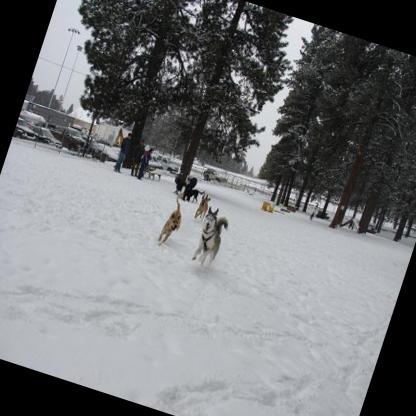Eskimo_dog: (189, 204, 232, 266)
